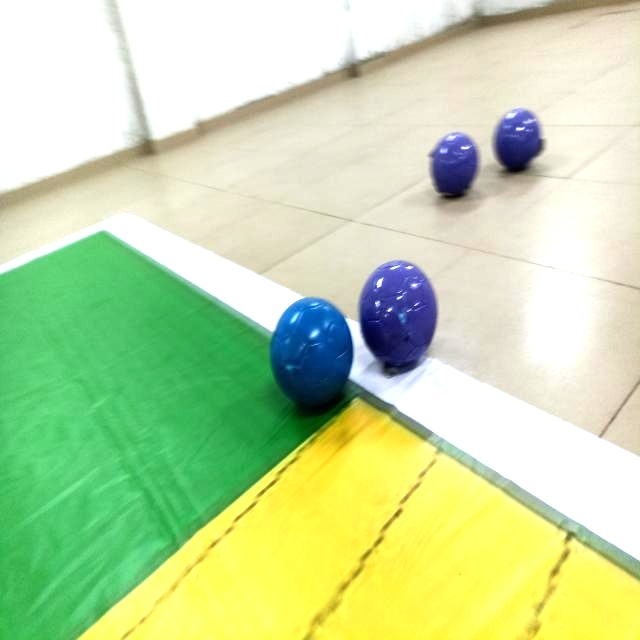blue_ball: (272, 295, 360, 410)
purple_ball: (359, 259, 450, 377), (426, 119, 479, 199), (492, 109, 544, 177)
